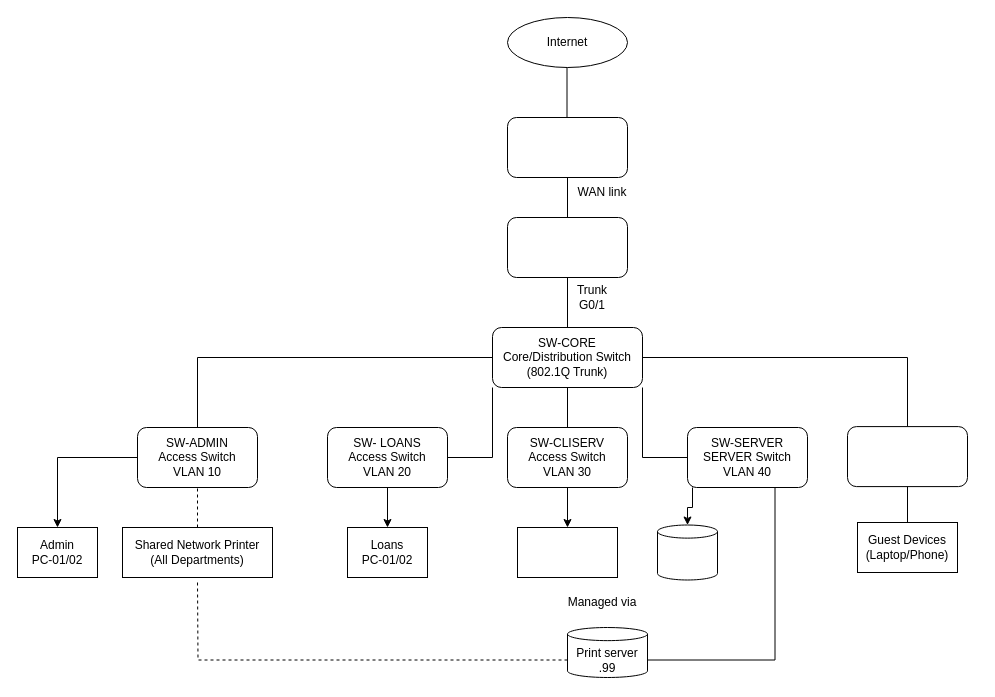
The diagram is 995 pixels wide and 697 high, and some of its shapes have lost their labels. Here are the shapes that lost their labels. From the top down, the centre of each, then its label:
(567,147): ISP Router
(567,247): R1 - Edge Router NWAF-RTR01
(907,456): AP-GUEST Wireless Access Point VLAN 99
(567,552): Client Services PC-01/02
(687,552): File server .99
